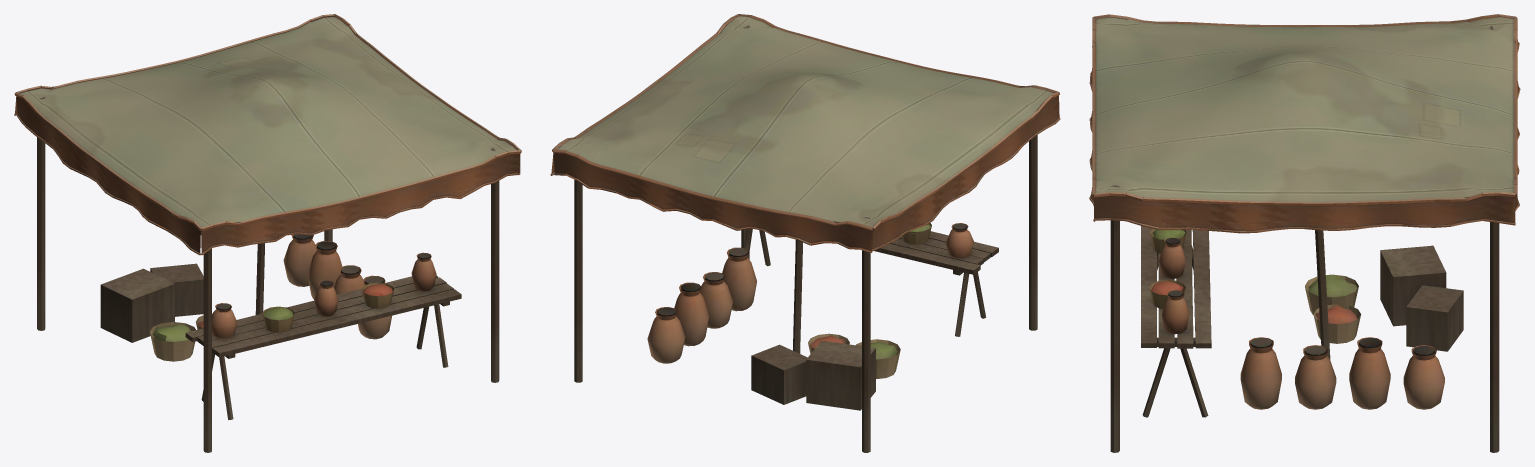
Rendered from vc_stall.glb.
The picture shows the model from 3 angles, left to right: view 1: azimuth 30°, elevation 25°; view 2: azimuth 150°, elevation 25°; view 3: azimuth 270°, elevation 25°; orthographic projection. The views are drawn at different scales.
Visible parts, largest first — view 1: vc_stall; view 2: vc_stall; view 3: vc_stall.
Boxes of the visible parts, box(x1,y1,x2,y2) form: vc_stall: box(14, 14, 521, 452); vc_stall: box(550, 14, 1060, 452); vc_stall: box(1089, 14, 1520, 452).
Size of the model in its own units: 3.96 by 3.15 by 3.97.
1 material, 1 textured.
